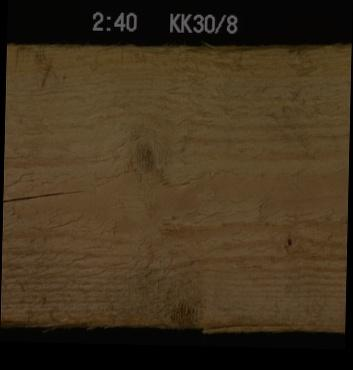edge_knot: (167, 287, 209, 331)
small_knot: (282, 232, 301, 246)
sound_knot: (128, 133, 172, 181)
split: (3, 184, 89, 206), (214, 314, 297, 328)
